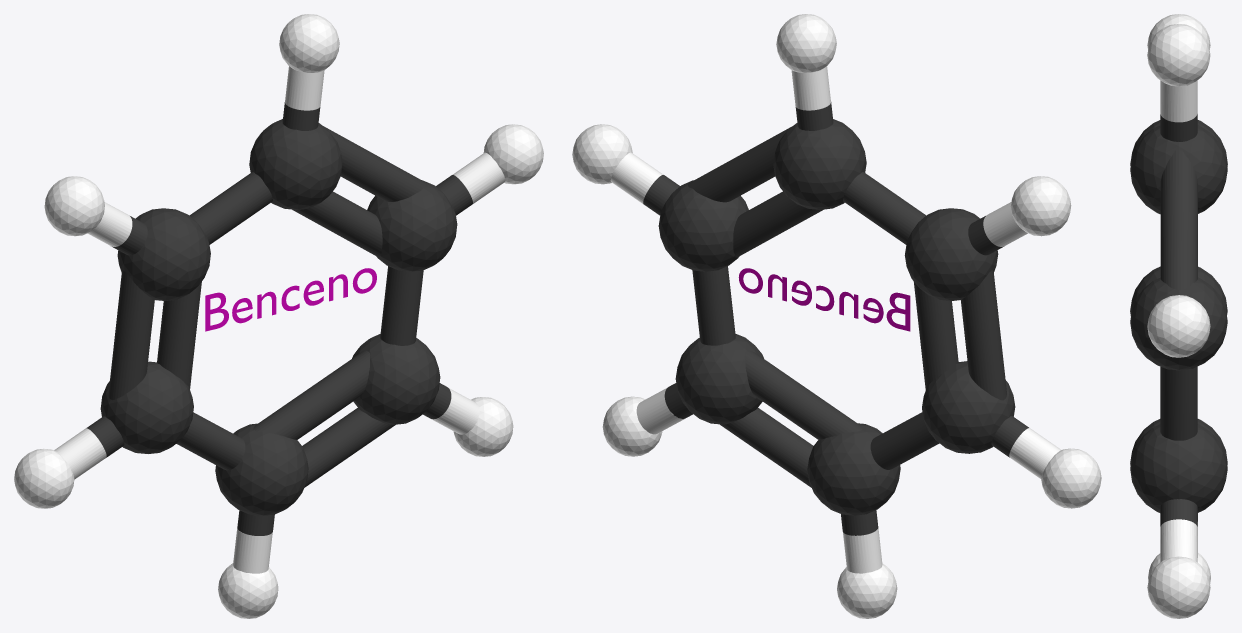
The model's file is benceno2.glb.
3 renders of one model, left to right at view 1: azimuth 30°, elevation 25°; view 2: azimuth 150°, elevation 25°; view 3: azimuth 270°, elevation 25°, orthographic. The views are drawn at different scales.
Visible parts, largest first — view 1: Shape_IndexedFaceSet.032, Shape_IndexedFaceSet.018, Text; view 2: Shape_IndexedFaceSet.032, Shape_IndexedFaceSet.018, Text; view 3: Shape_IndexedFaceSet.032, Shape_IndexedFaceSet.018.
Part boxes in pixels (bbox=[...]): Shape_IndexedFaceSet.032: bbox=[86, 102, 472, 535]; Shape_IndexedFaceSet.018: bbox=[14, 14, 543, 618]; Text: bbox=[205, 268, 376, 331]; Shape_IndexedFaceSet.032: bbox=[643, 102, 1028, 535]; Shape_IndexedFaceSet.018: bbox=[572, 14, 1101, 618]; Text: bbox=[738, 268, 910, 331]; Shape_IndexedFaceSet.032: bbox=[1130, 114, 1227, 526]; Shape_IndexedFaceSet.018: bbox=[1147, 14, 1210, 618].
Bounding box in the file's own units: 50.34 × 53.95 × 7.83.
